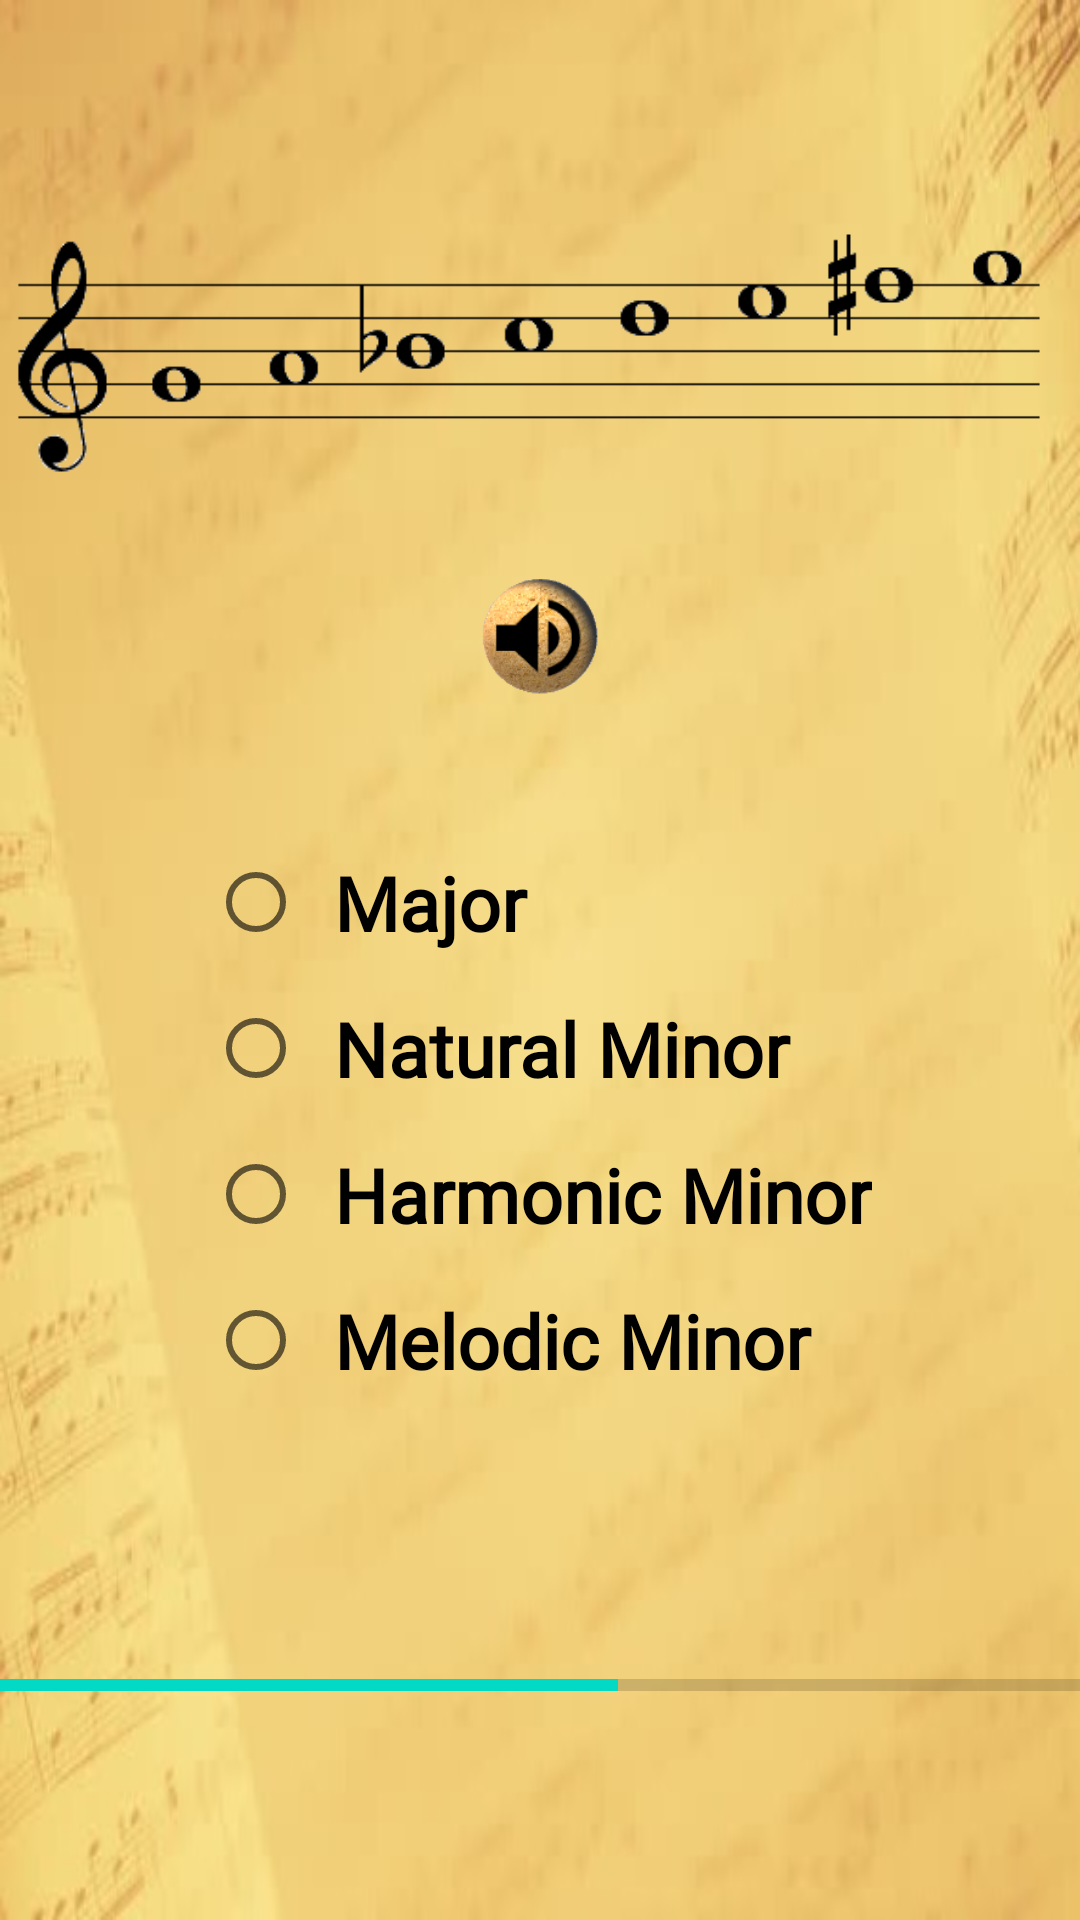

Icons on this 1080×1920 Android screen, each with its box as (x1, y1, x2, y2):
sound: (483, 579, 598, 694)
